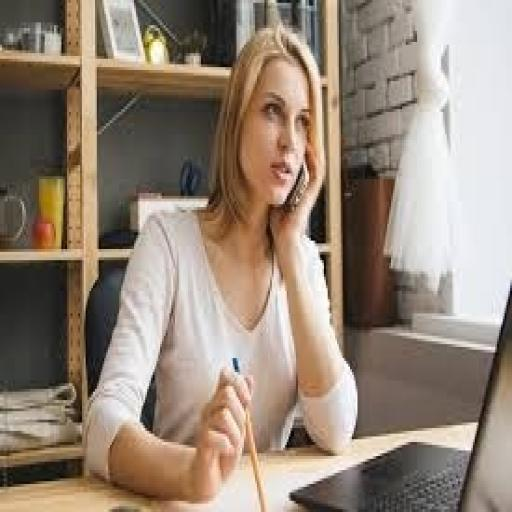calling: (80, 22, 359, 504)
